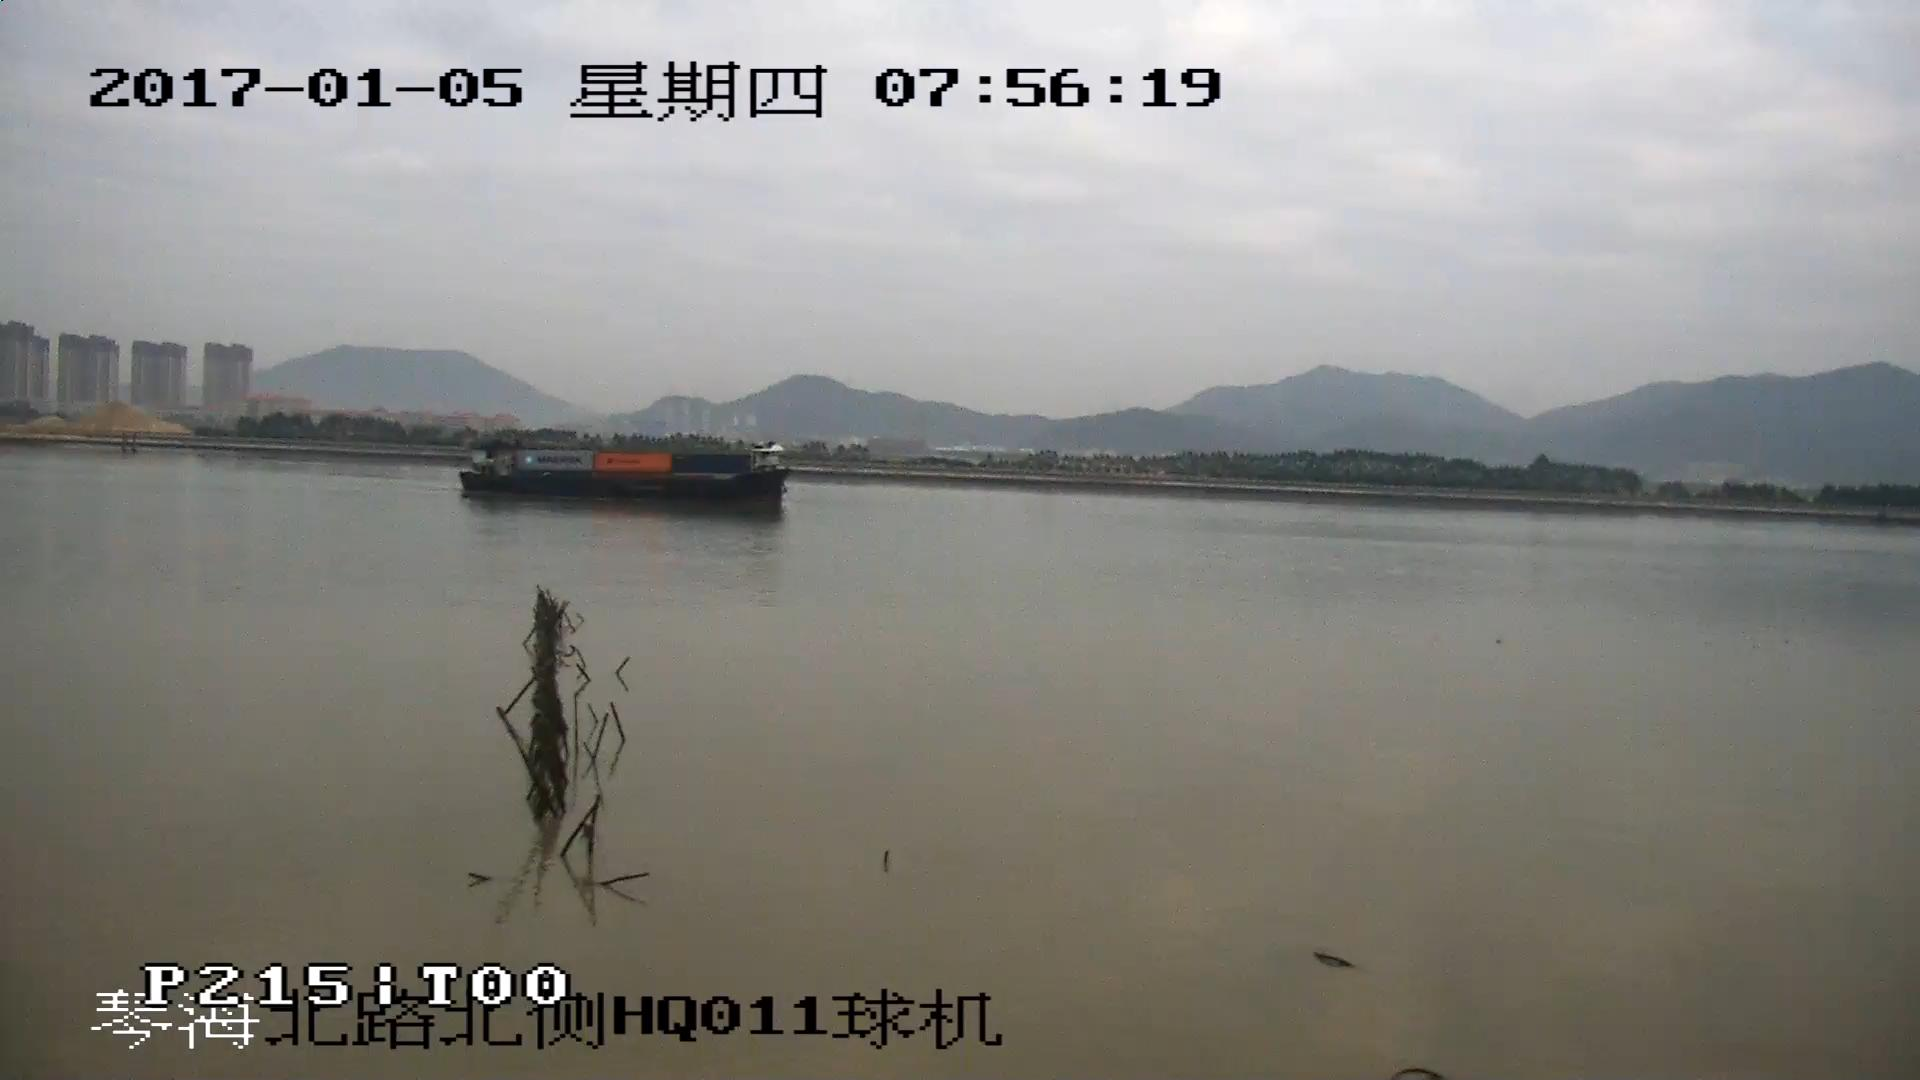container ship: (464, 444, 790, 507)
